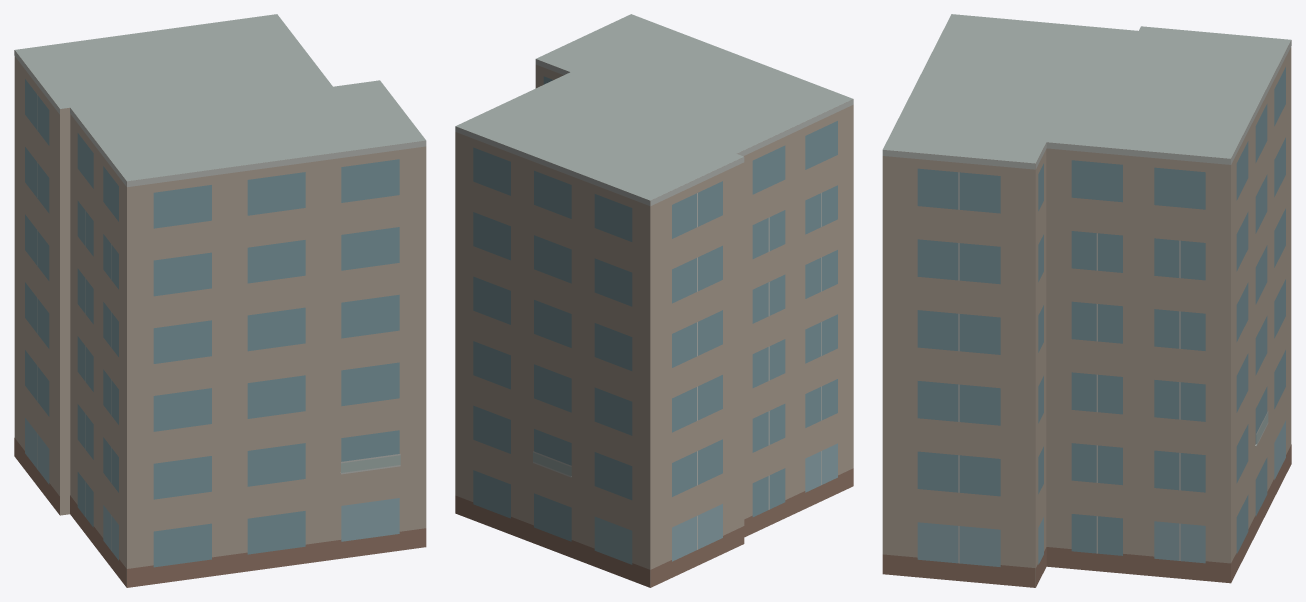
Rendered from survey-upis-32925266.glb.
The picture shows the model from 3 angles, left to right: view 1: azimuth 30°, elevation 25°; view 2: azimuth 150°, elevation 25°; view 3: azimuth 270°, elevation 25°; orthographic projection. The views are drawn at different scales.
Parts seen in each view (by area): view 1: survey-upis-32925266.tmp; view 2: survey-upis-32925266.tmp; view 3: survey-upis-32925266.tmp.
Boxes of the visible parts, x1,y1,x2,y2 form: survey-upis-32925266.tmp: [14, 14, 426, 587]; survey-upis-32925266.tmp: [455, 14, 853, 587]; survey-upis-32925266.tmp: [882, 14, 1291, 587].
Bounding box in the file's own units: 12.7 × 16.8 × 14.68.
